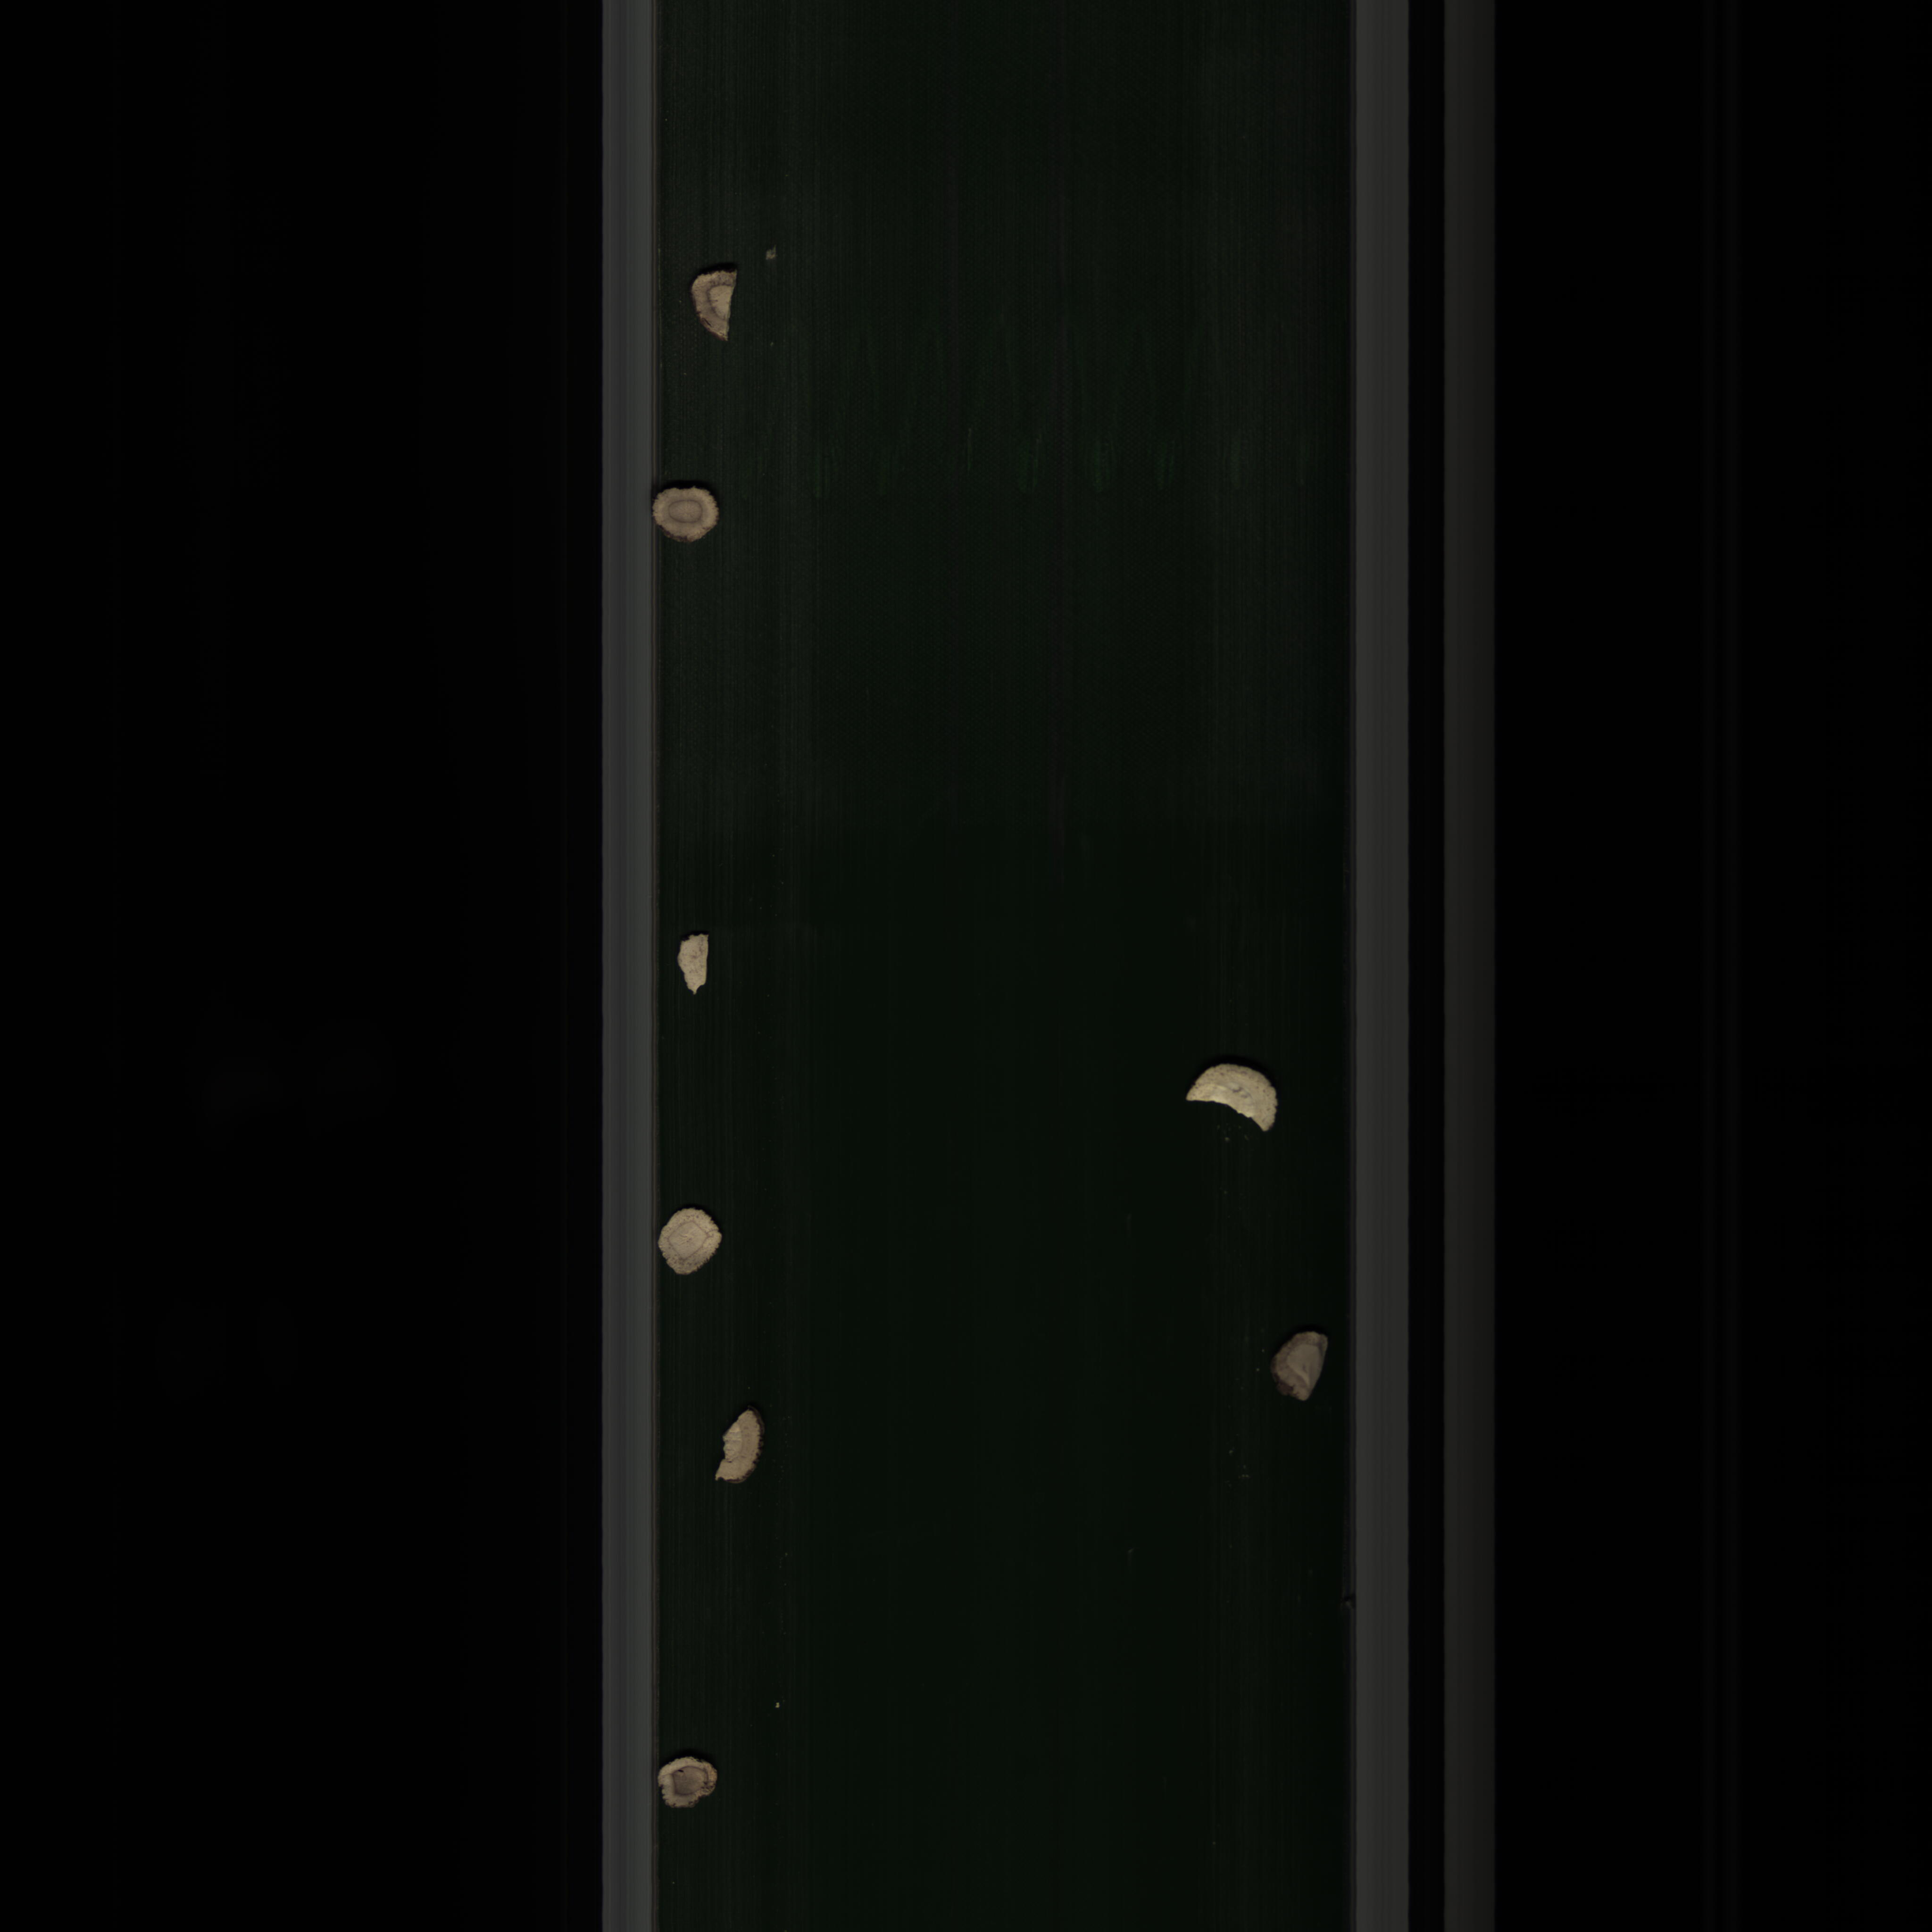debris: (1171, 1056, 1286, 1146), (706, 1399, 771, 1499), (669, 925, 720, 1014)
moldy: (678, 262, 750, 359), (1270, 1316, 1336, 1419), (640, 481, 734, 545), (655, 1753, 725, 1817)
